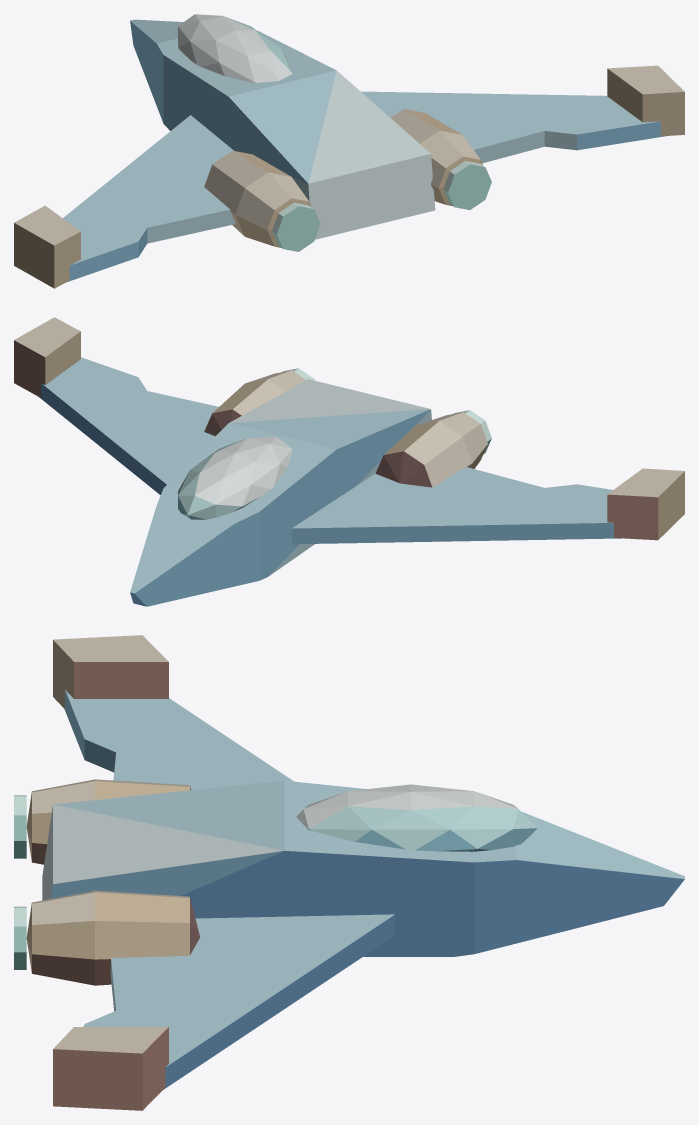
The model's file is ship_air_kite.glb.
3 views of the same model, one above another, from view 1: azimuth 30°, elevation 25°; view 2: azimuth 150°, elevation 25°; view 3: azimuth 270°, elevation 25° (orthographic). The views are drawn at different scales.
Parts seen in each view (by area): view 1: ship_air_kite; view 2: ship_air_kite; view 3: ship_air_kite.
Boxes of the visible parts, left/top/right/bottom form: ship_air_kite: left=14, top=14, right=684, bottom=288; ship_air_kite: left=14, top=317, right=684, bottom=606; ship_air_kite: left=14, top=635, right=684, bottom=1110.
Size of what is drawn, in the model's own units: 9.4 by 1.43 by 6.37.
